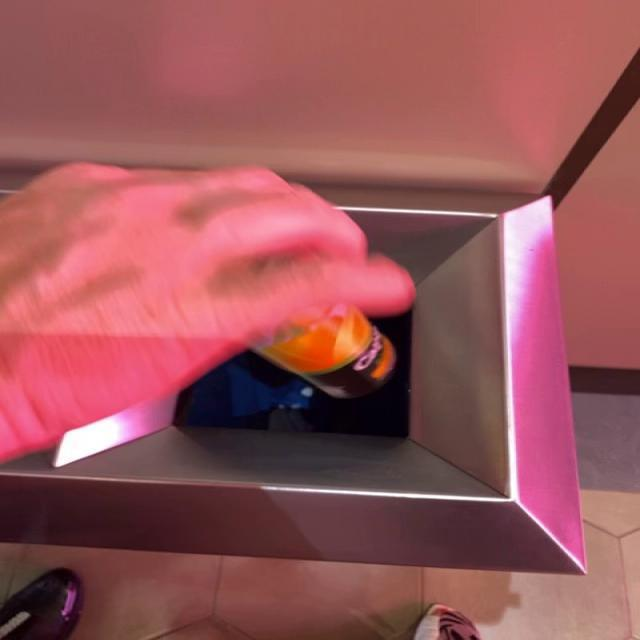Bin: (3, 198, 587, 574)
Metal: (255, 305, 396, 398)
